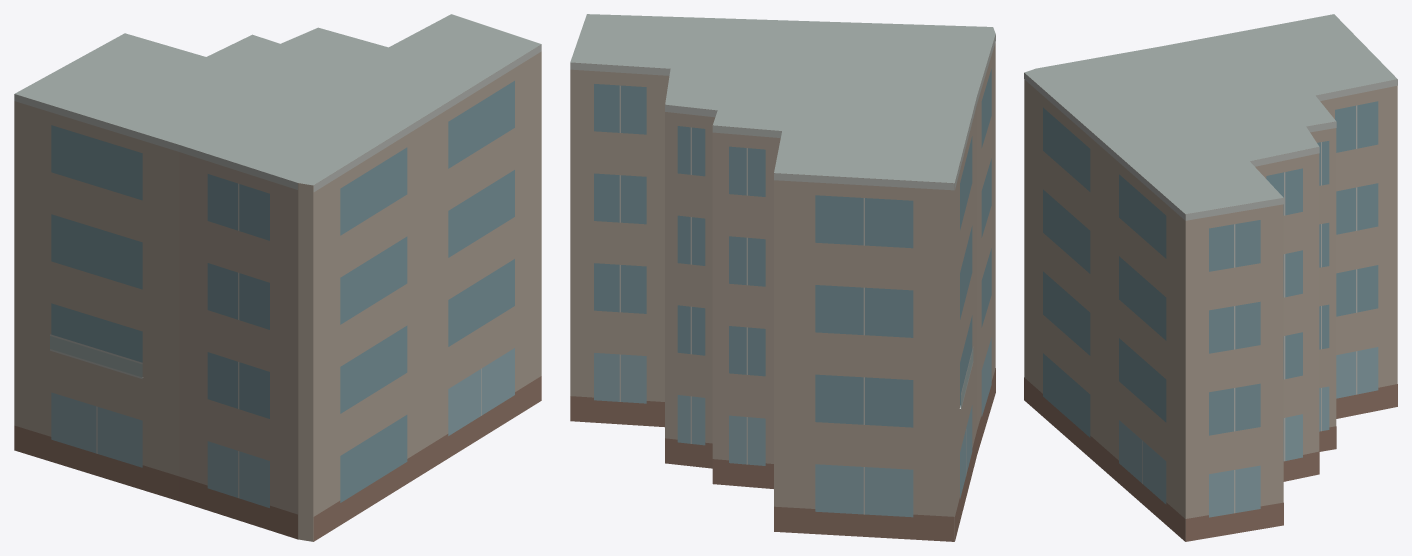
File: survey-upis-32696537.glb
3 renders of one model, left to right at view 1: azimuth 30°, elevation 25°; view 2: azimuth 150°, elevation 25°; view 3: azimuth 270°, elevation 25°, orthographic. The views are drawn at different scales.
Visible parts, largest first — view 1: survey-upis-32696537.tmp; view 2: survey-upis-32696537.tmp; view 3: survey-upis-32696537.tmp.
Boxes of the visible parts, box(x1,y1,x2,y2) form: survey-upis-32696537.tmp: box(14, 14, 541, 541); survey-upis-32696537.tmp: box(570, 14, 995, 541); survey-upis-32696537.tmp: box(1024, 14, 1397, 541).
Bounding box in the file's own units: 16 × 12.2 × 12.62.
